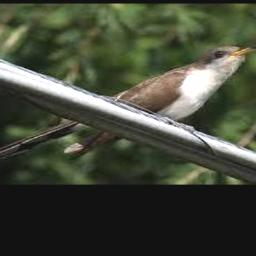Cuckoo: (0, 46, 256, 165)
